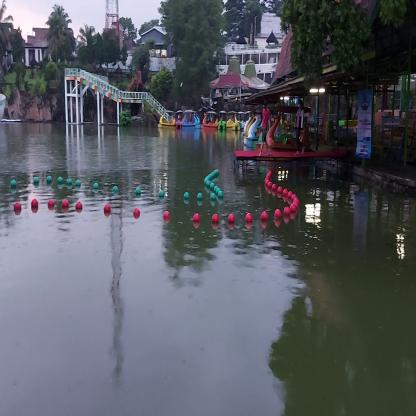green_buoy: (134, 188, 142, 198), (158, 190, 164, 201), (58, 176, 64, 186), (184, 192, 189, 204), (198, 194, 204, 204), (210, 193, 216, 202), (47, 176, 52, 186), (34, 177, 40, 185), (93, 183, 99, 191), (218, 192, 224, 200), (76, 180, 82, 187), (113, 185, 119, 192), (12, 180, 17, 188), (204, 178, 209, 185), (217, 188, 221, 196), (68, 179, 73, 185), (214, 187, 218, 194), (207, 181, 210, 188), (211, 183, 214, 190)
red_buoy: (244, 212, 254, 224), (288, 196, 296, 208), (14, 202, 22, 214), (31, 197, 38, 209), (48, 199, 55, 211), (283, 208, 290, 219), (163, 211, 170, 222), (228, 214, 235, 225), (212, 214, 219, 225), (290, 204, 296, 216), (261, 212, 268, 222), (283, 189, 289, 200), (62, 199, 68, 210), (275, 210, 282, 219), (194, 213, 199, 225), (76, 202, 83, 210), (277, 187, 282, 197), (104, 206, 110, 214), (134, 210, 140, 217), (272, 184, 276, 194)
